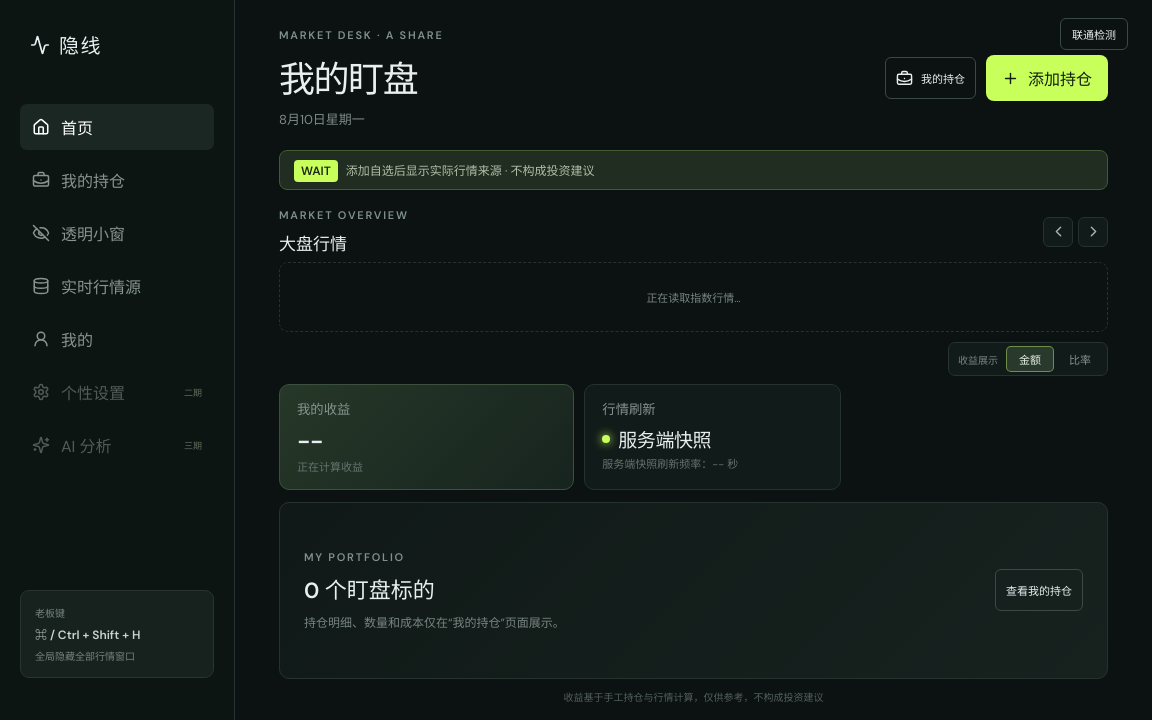
Test: Dashboard › 展示各行情链路的独立联通指示
This screenshot has width=1152, height=720.
Click the button "联通检测" at (1094, 34), box [1060,18,1128,50]
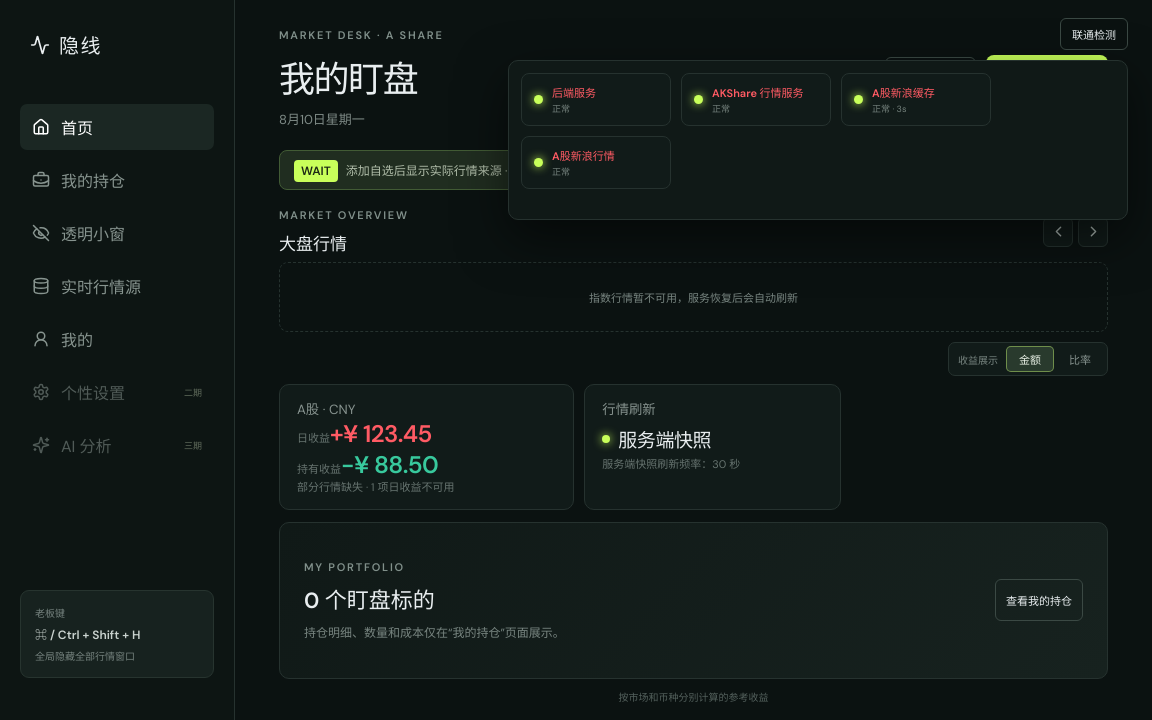
Expected: the text "AKShare 行情服务" is shown, [712,84,804,100]
Expected: the text "A股新浪缓存" is shown, [872,84,935,100]
Expected: the text "A股新浪行情" is shown, [552,147,615,163]
